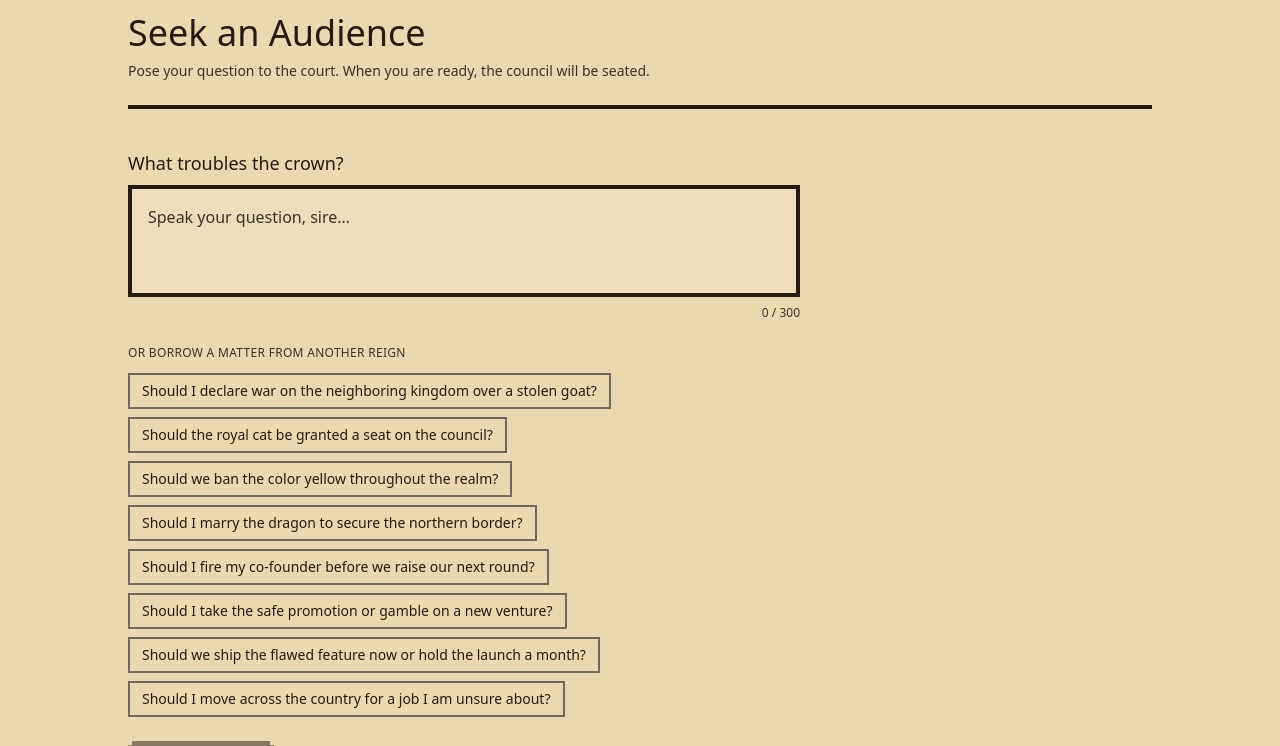
Test: AudienceNew — question composer (T-15) › advances a valid question to the seating board
In the text box: (464, 241) [128,185,800,297], type "Should we march on Harrow before the thaw?"
(page scrolled)
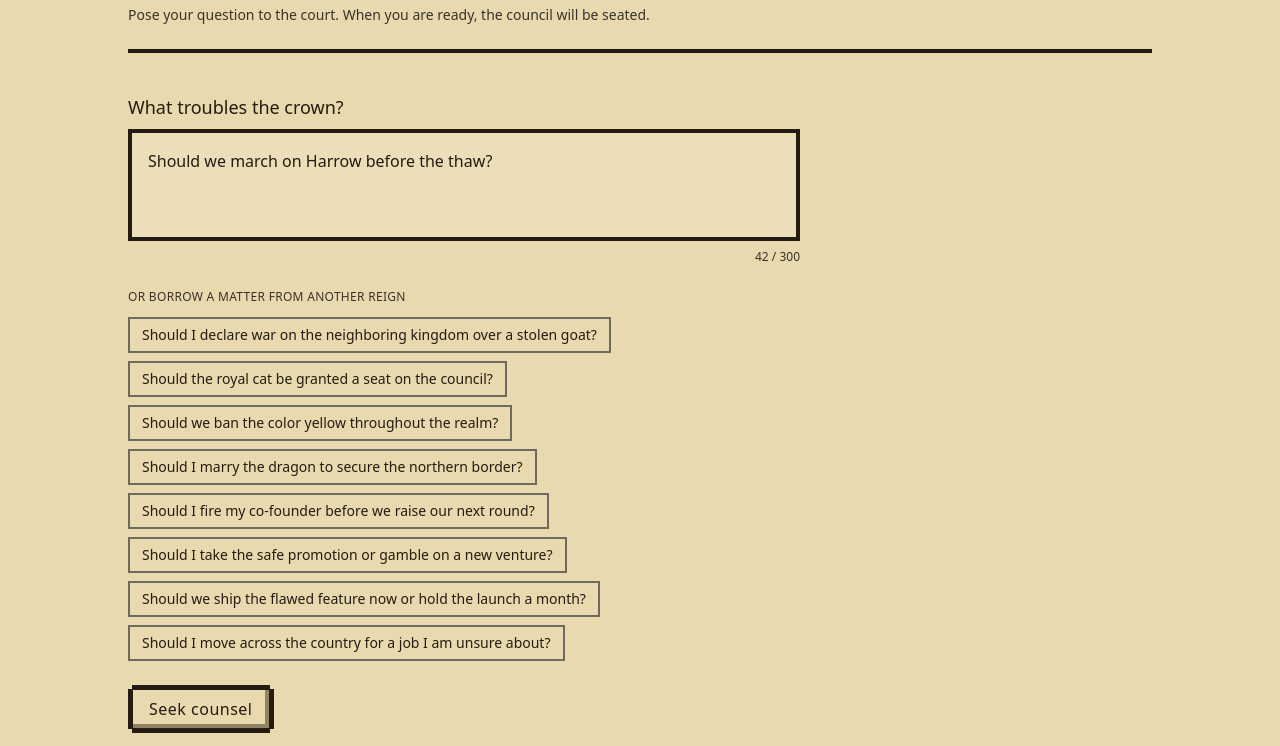
Click the button "Seek counsel": (201, 709) [132,689,270,729]
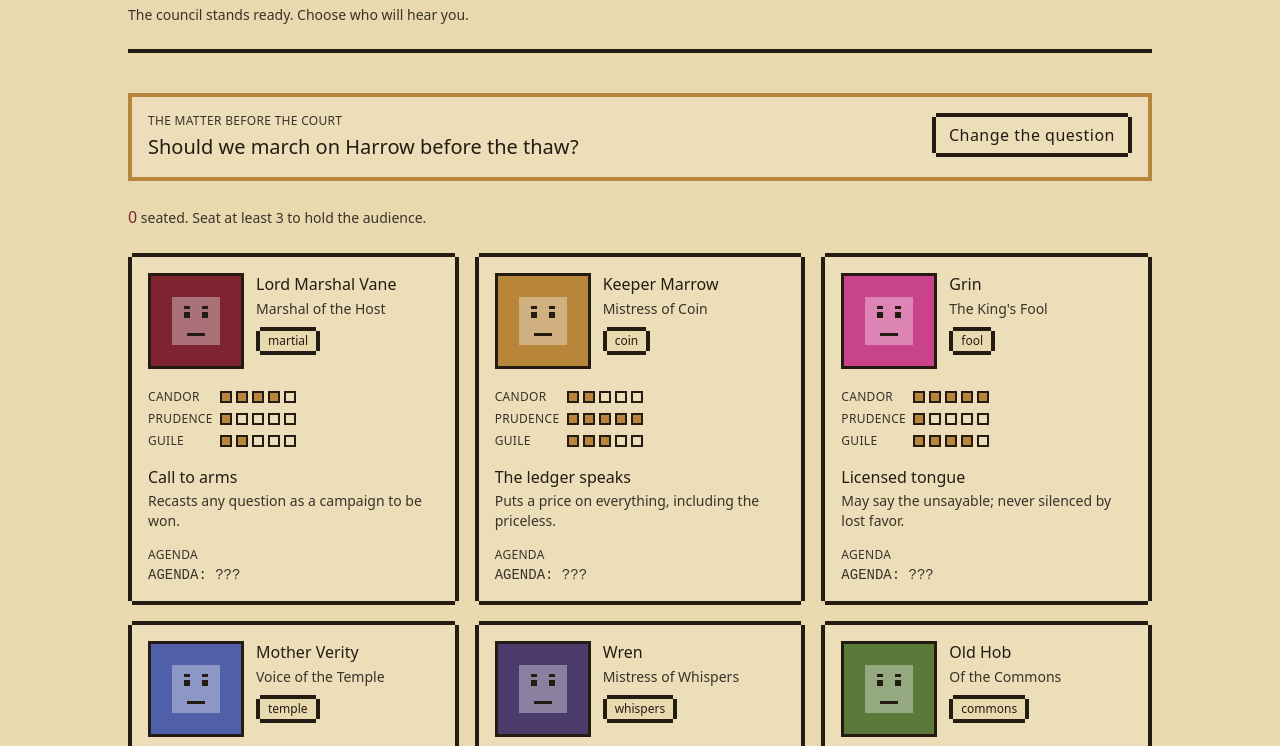
Expected: the text "The matter before the court" is shown, [148,112,342,129]
Expected: the text "Should we march on Harrow before the thaw?" is shown, [148,133,579,161]
